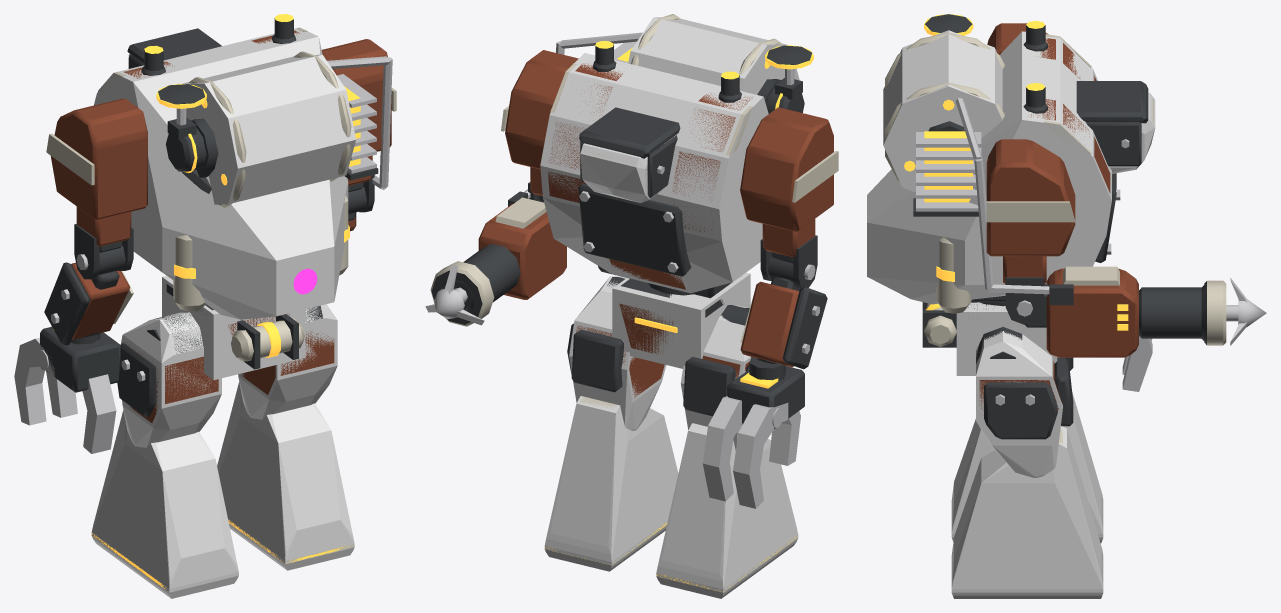
The model's file is grappler.glb.
3 views of the same model, side by side, from view 1: azimuth 30°, elevation 25°; view 2: azimuth 150°, elevation 25°; view 3: azimuth 270°, elevation 25° (orthographic). The views are drawn at different scales.
Parts seen in each view (by area): view 1: COL_torso, COL_shin_l, COL_shin_r, COL_winch, upper_arm_l, claw_l, COL_thigh_l, COL_thigh_r, upper_arm_r, torso, COL_pelvis, affix_volatile_hip (+11 smaller); view 2: COL_torso, COL_shin_r, claw_l, COL_shin_l, upper_arm_l, harpoon_r, torso, affix_armour_chest, COL_winch, COL_pelvis, upper_arm_r, affix_armour_head (+12 smaller); view 3: COL_torso, COL_shin_r, harpoon_r, upper_arm_r, COL_winch, COL_thigh_r, affix_overclock_radiator, affix_armour_head, affix_armour_thigh_r, COL_shin_l, COL_pelvis, torso (+10 smaller).
Part boxes in pixels (x1=…): COL_torso: x1=94, y1=28, x2=348, y2=319; COL_shin_l: x1=91, y1=410, x2=238, y2=598; COL_shin_r: x1=217, y1=382, x2=354, y2=570; COL_winch: x1=182, y1=54, x2=355, y2=204; upper_arm_l: x1=46, y1=98, x2=147, y2=279; claw_l: x1=14, y1=245, x2=133, y2=453; COL_thigh_l: x1=121, y1=312, x2=221, y2=447; COL_thigh_r: x1=238, y1=304, x2=337, y2=419; upper_arm_r: x1=321, y1=39, x2=396, y2=212; torso: x1=98, y1=27, x2=389, y2=294; COL_pelvis: x1=162, y1=276, x2=305, y2=380; affix_volatile_hip: x1=231, y1=314, x2=304, y2=369; COL_torso: x1=540, y1=53, x2=768, y2=293; COL_shin_r: x1=544, y1=396, x2=678, y2=571; claw_l: x1=702, y1=256, x2=804, y2=508; COL_shin_l: x1=656, y1=423, x2=798, y2=598; upper_arm_l: x1=740, y1=107, x2=838, y2=288; harpoon_r: x1=425, y1=189, x2=566, y2=326; torso: x1=548, y1=32, x2=804, y2=298; affix_armour_chest: x1=578, y1=183, x2=691, y2=276; COL_winch: x1=628, y1=17, x2=799, y2=94; COL_pelvis: x1=612, y1=272, x2=750, y2=368; upper_arm_r: x1=501, y1=41, x2=578, y2=202; affix_armour_head: x1=579, y1=107, x2=680, y2=197; COL_torso: x1=867, y1=31, x2=1111, y2=304; COL_shin_r: x1=951, y1=426, x2=1103, y2=598; harpoon_r: x1=989, y1=266, x2=1266, y2=357; upper_arm_r: x1=974, y1=139, x2=1075, y2=324; COL_winch: x1=883, y1=30, x2=1002, y2=192; COL_thigh_r: x1=976, y1=331, x2=1062, y2=477; affix_overclock_radiator: x1=913, y1=131, x2=981, y2=216; affix_armour_head: x1=1076, y1=81, x2=1148, y2=166; affix_armour_thigh_r: x1=984, y1=357, x2=1073, y2=439; COL_shin_l: x1=951, y1=392, x2=1103, y2=543; COL_pelvis: x1=956, y1=302, x2=1057, y2=375; torso: x1=928, y1=34, x2=1110, y2=306.
Size of the model in its own units: 1.28 by 2.03 by 1.47.
